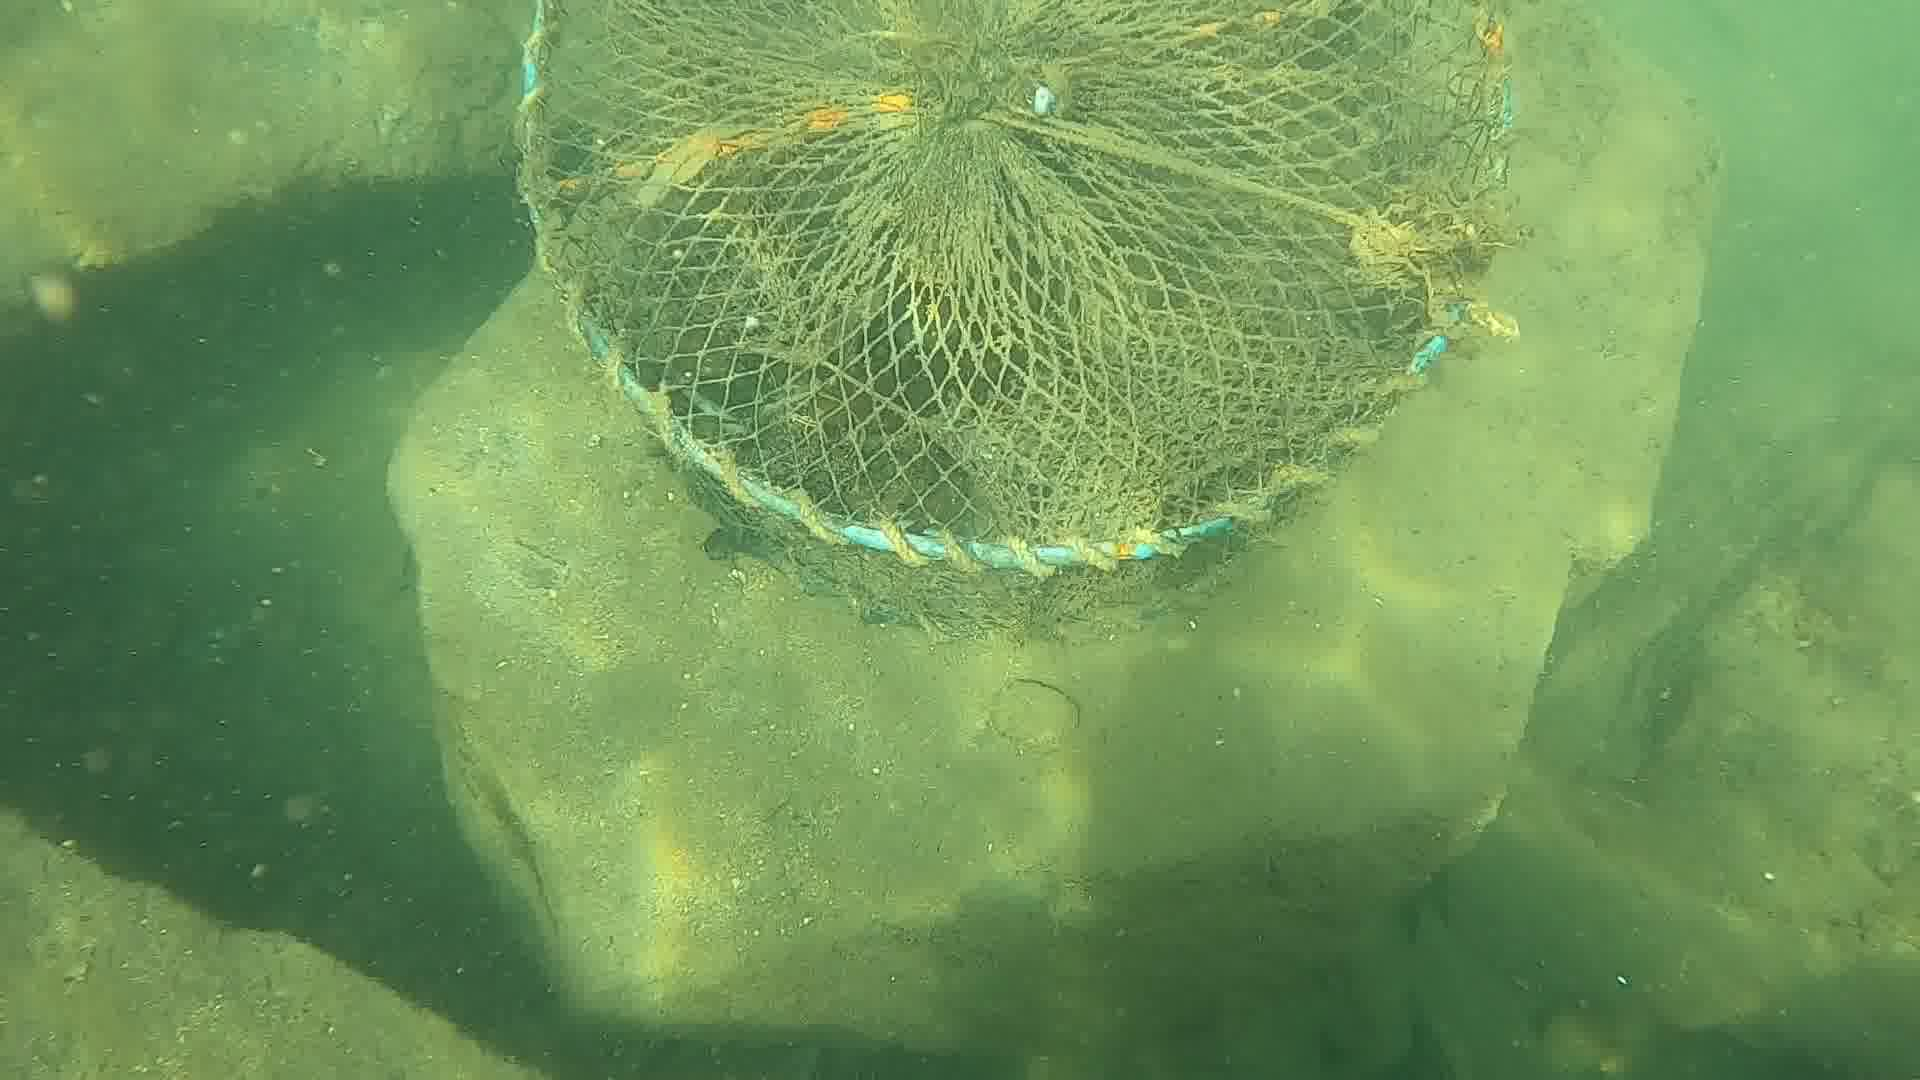circular fish trap: (514, 0, 1513, 638)
